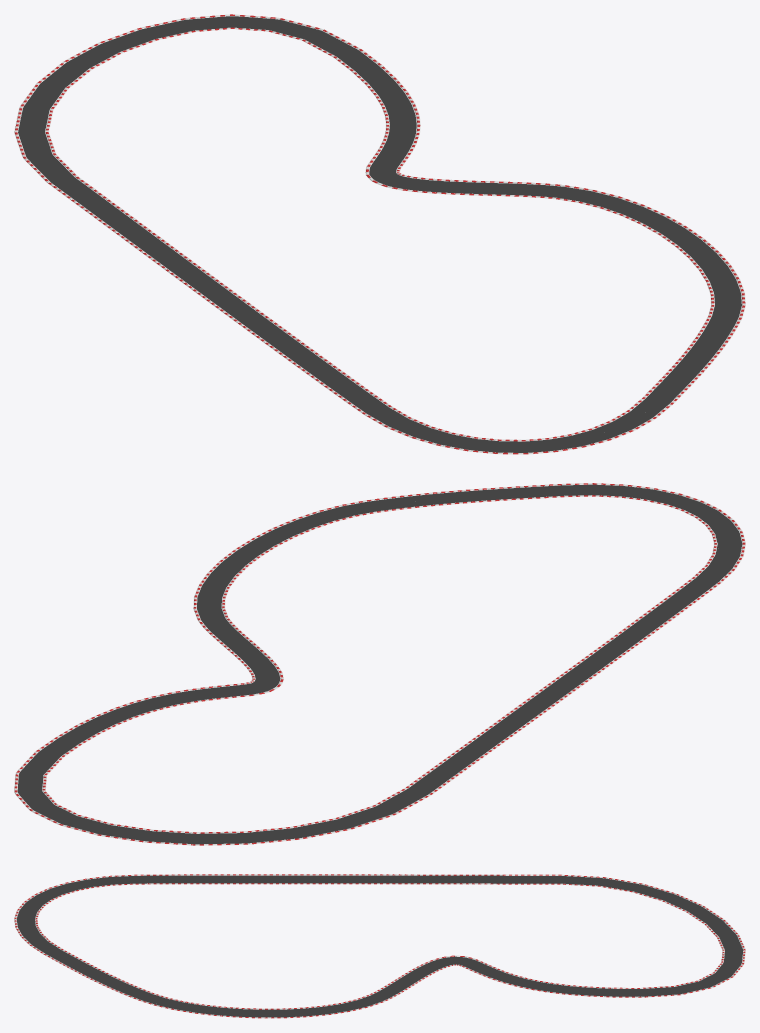
The picture shows the model from 3 angles, top to bottom: view 1: azimuth 30°, elevation 25°; view 2: azimuth 150°, elevation 25°; view 3: azimuth 270°, elevation 25°; orthographic projection. The views are drawn at different scales.
Visible parts, largest first — view 1: Plane; view 2: Plane; view 3: Plane.
Boxes of the visible parts, x1,y1,x2,y2 form: Plane: (14,14,745,454); Plane: (14,483,745,845); Plane: (14,874,745,1018).
Bounding box in the file's own units: 178 × 0.2 × 382.
